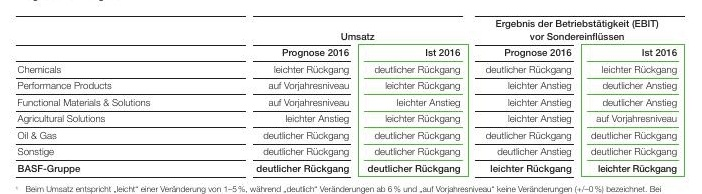table: (0, 0, 702, 194)
